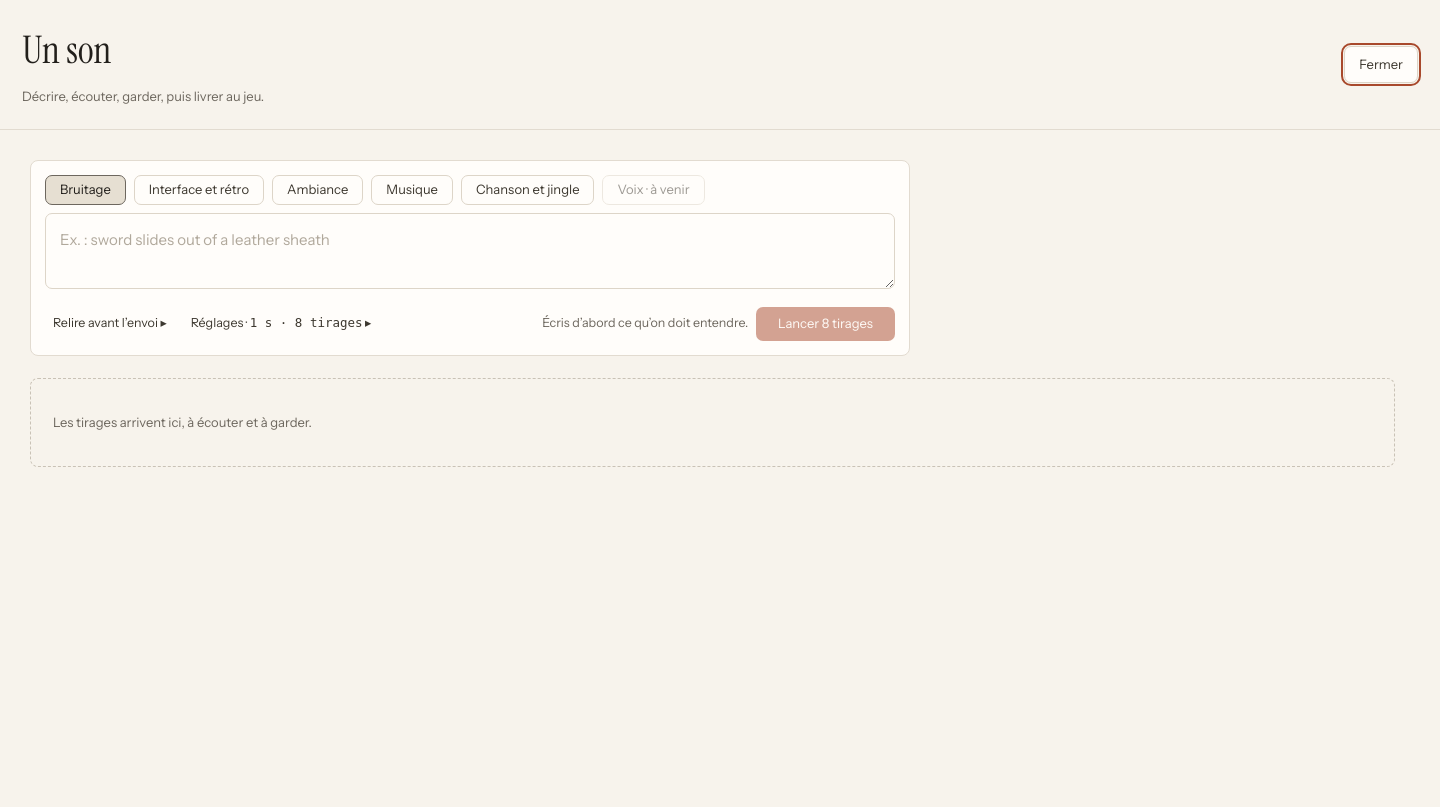
Test case: un moteur absent grise le lancement avec sa raison
The image size is (1440, 807).
Click the button "Musique" at point(412, 190), box [371,174,453,204]
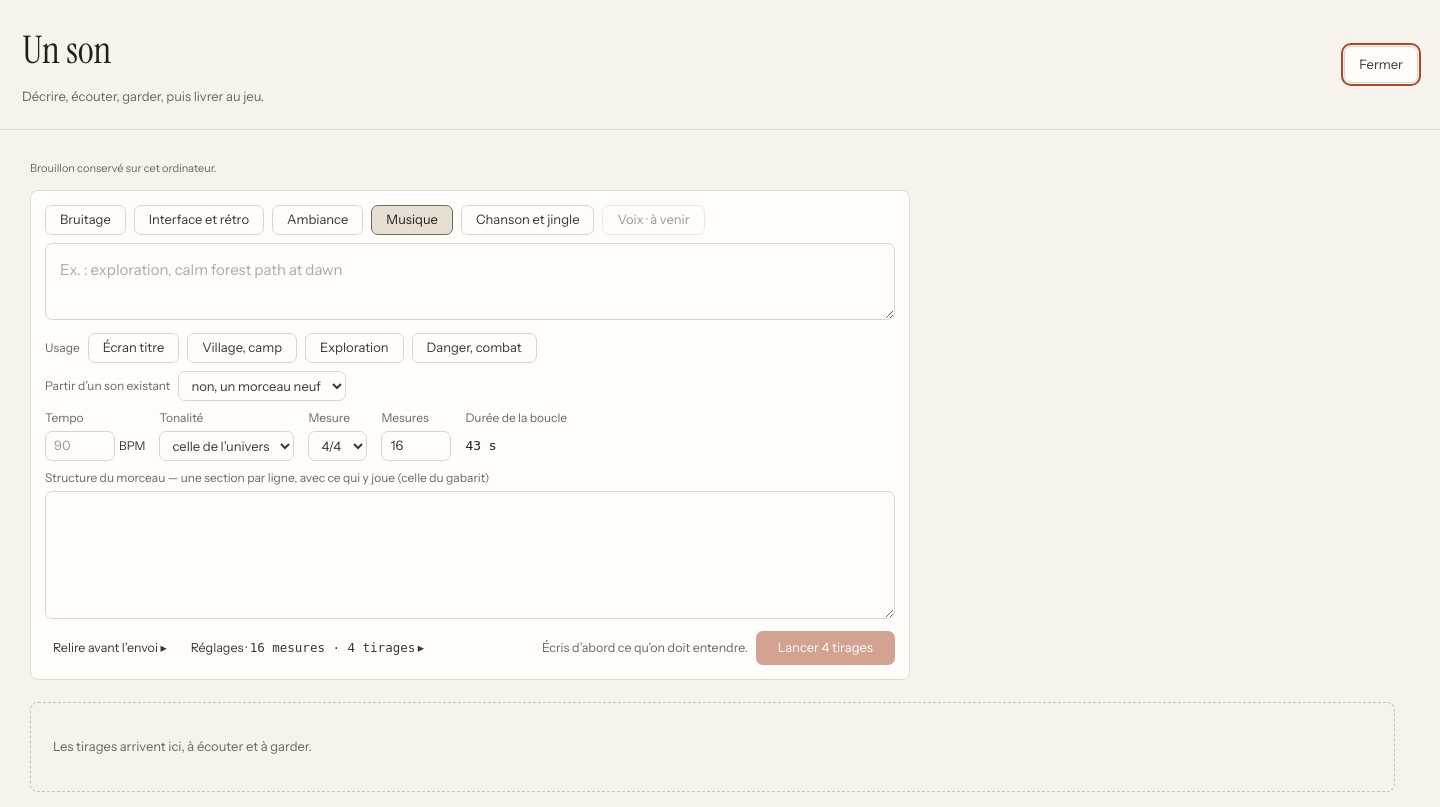
Type "Calm forest path at dawn" into the text box named "Ce qu’on doit entendre" at point(470, 281), box [45,243,895,320]
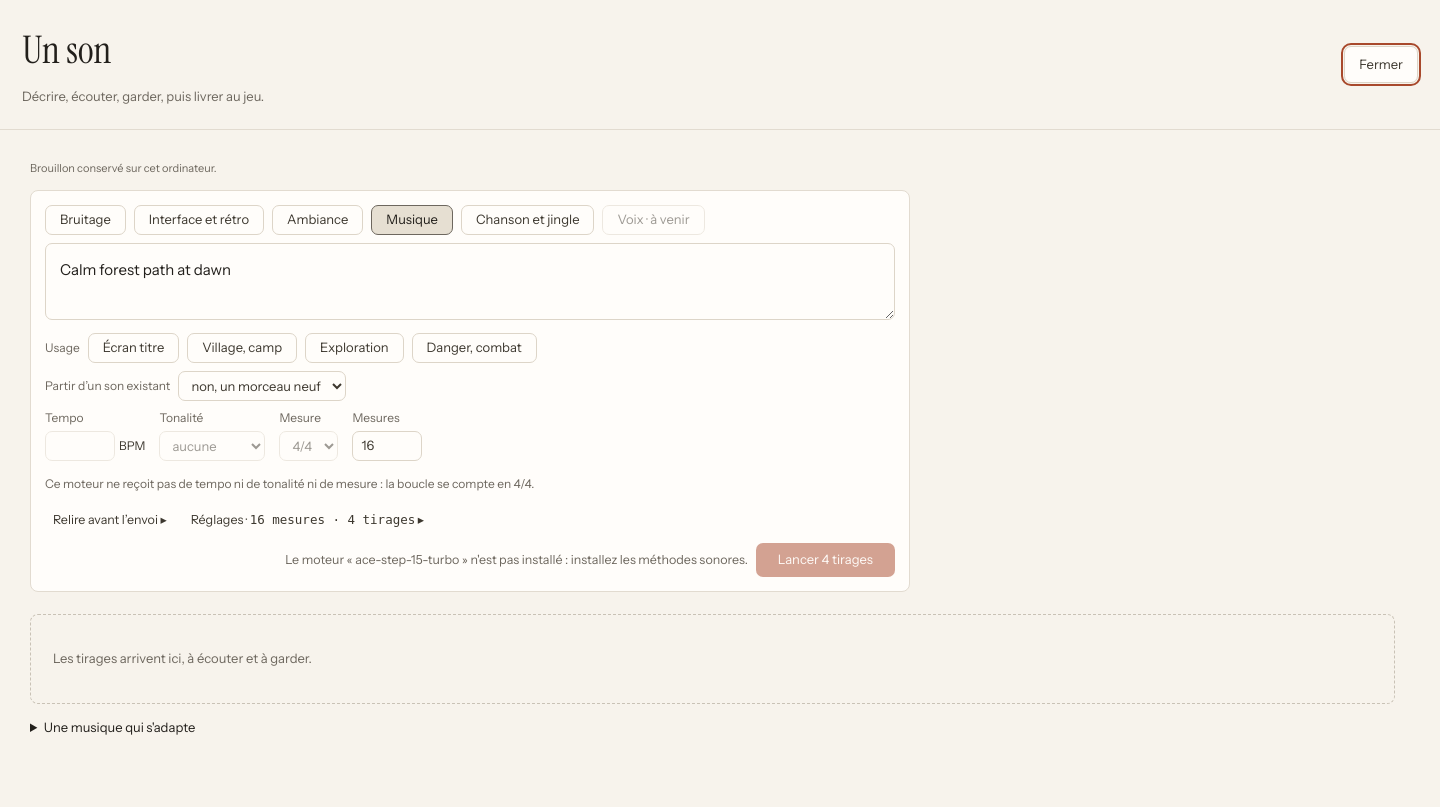
Expected: the button "Lancer 4 tirages" is disabled, [756,543,895,577]
Expected: the text "Le moteur « ace-step-15-turbo » n'est pas installé : installez les méthodes sonores." is shown, [285,552,748,567]
